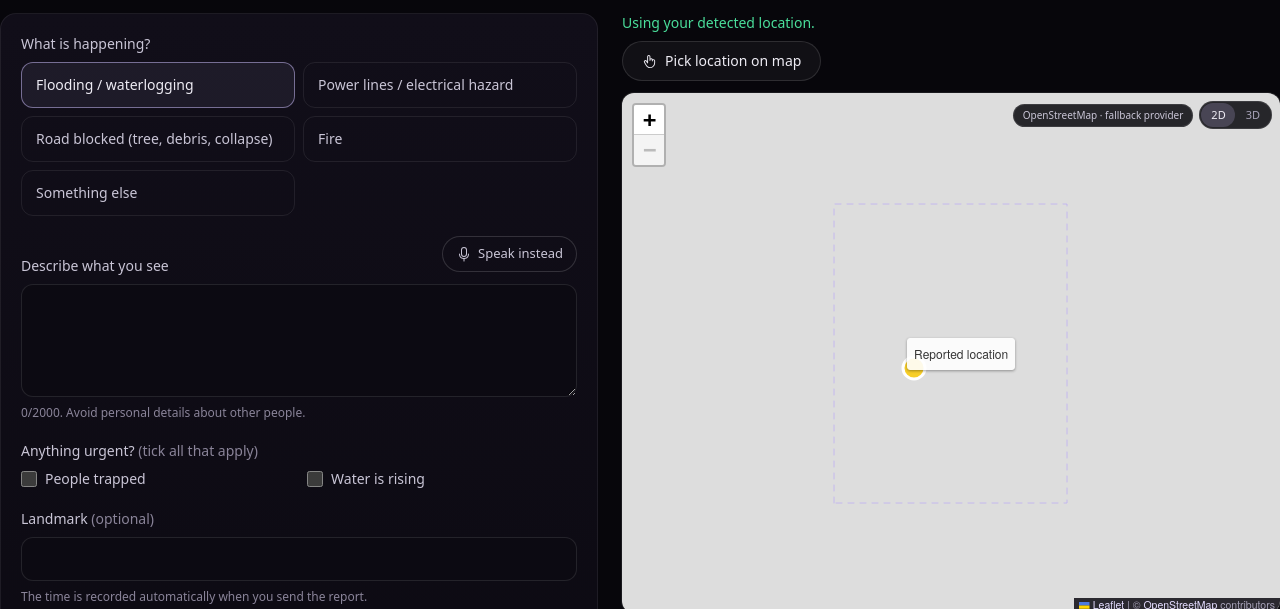
Scenario: report location: detection and manual override › uses a granted position by default, once, without asking for a map click, and sends it only on submit
Expected: the text "Using your detected location." is shown, [622,13,815,32]
Type "Water above the kerb and rising" into the text box labelled "Describe what you see" at (299, 340), box [21,284,577,397]
(page scrolled)
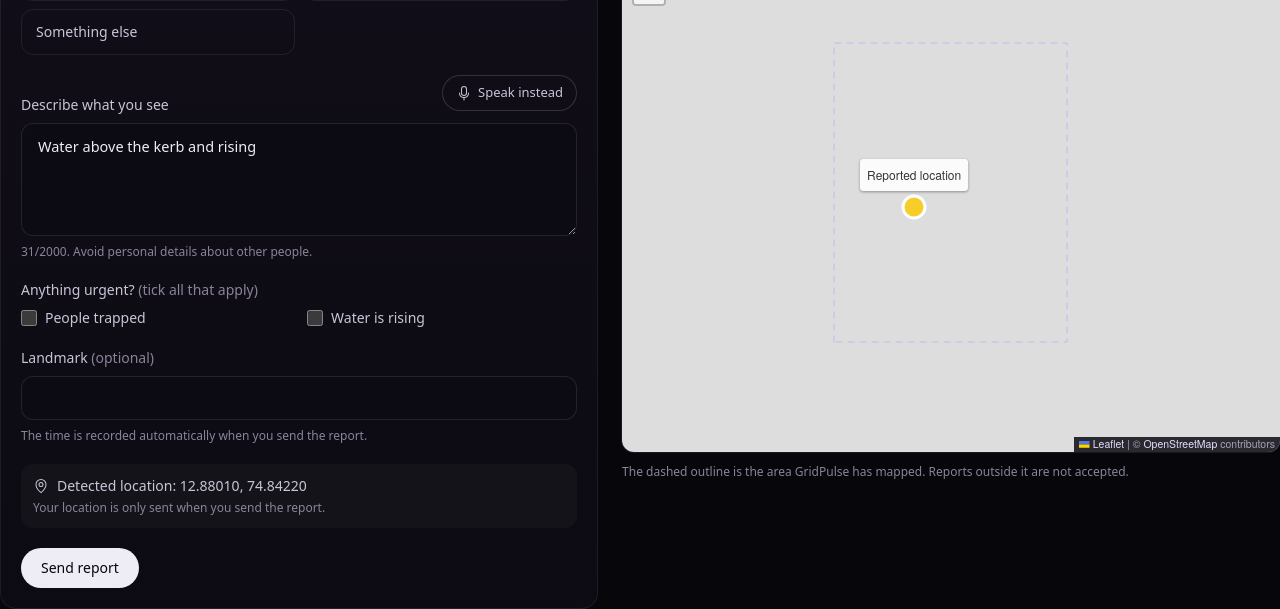
Click the button "Send report" at (80, 568), box [21,548,139,588]
(page scrolled)
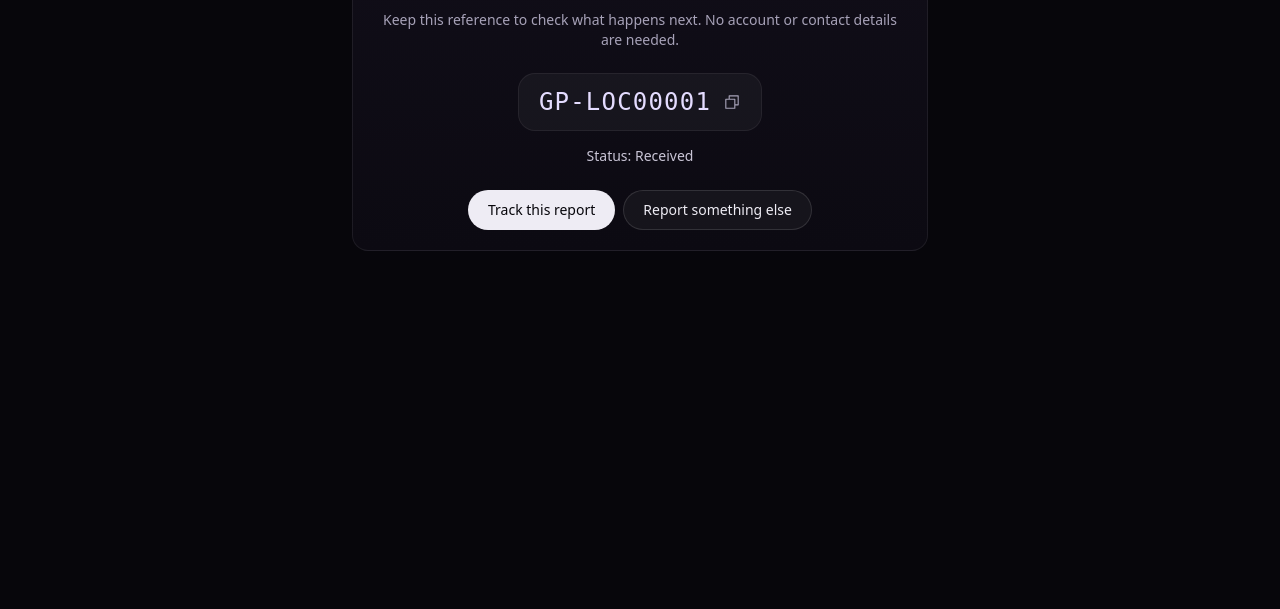
Now the text "GP-LOC00001" is shown, box [539,86,711,118]
